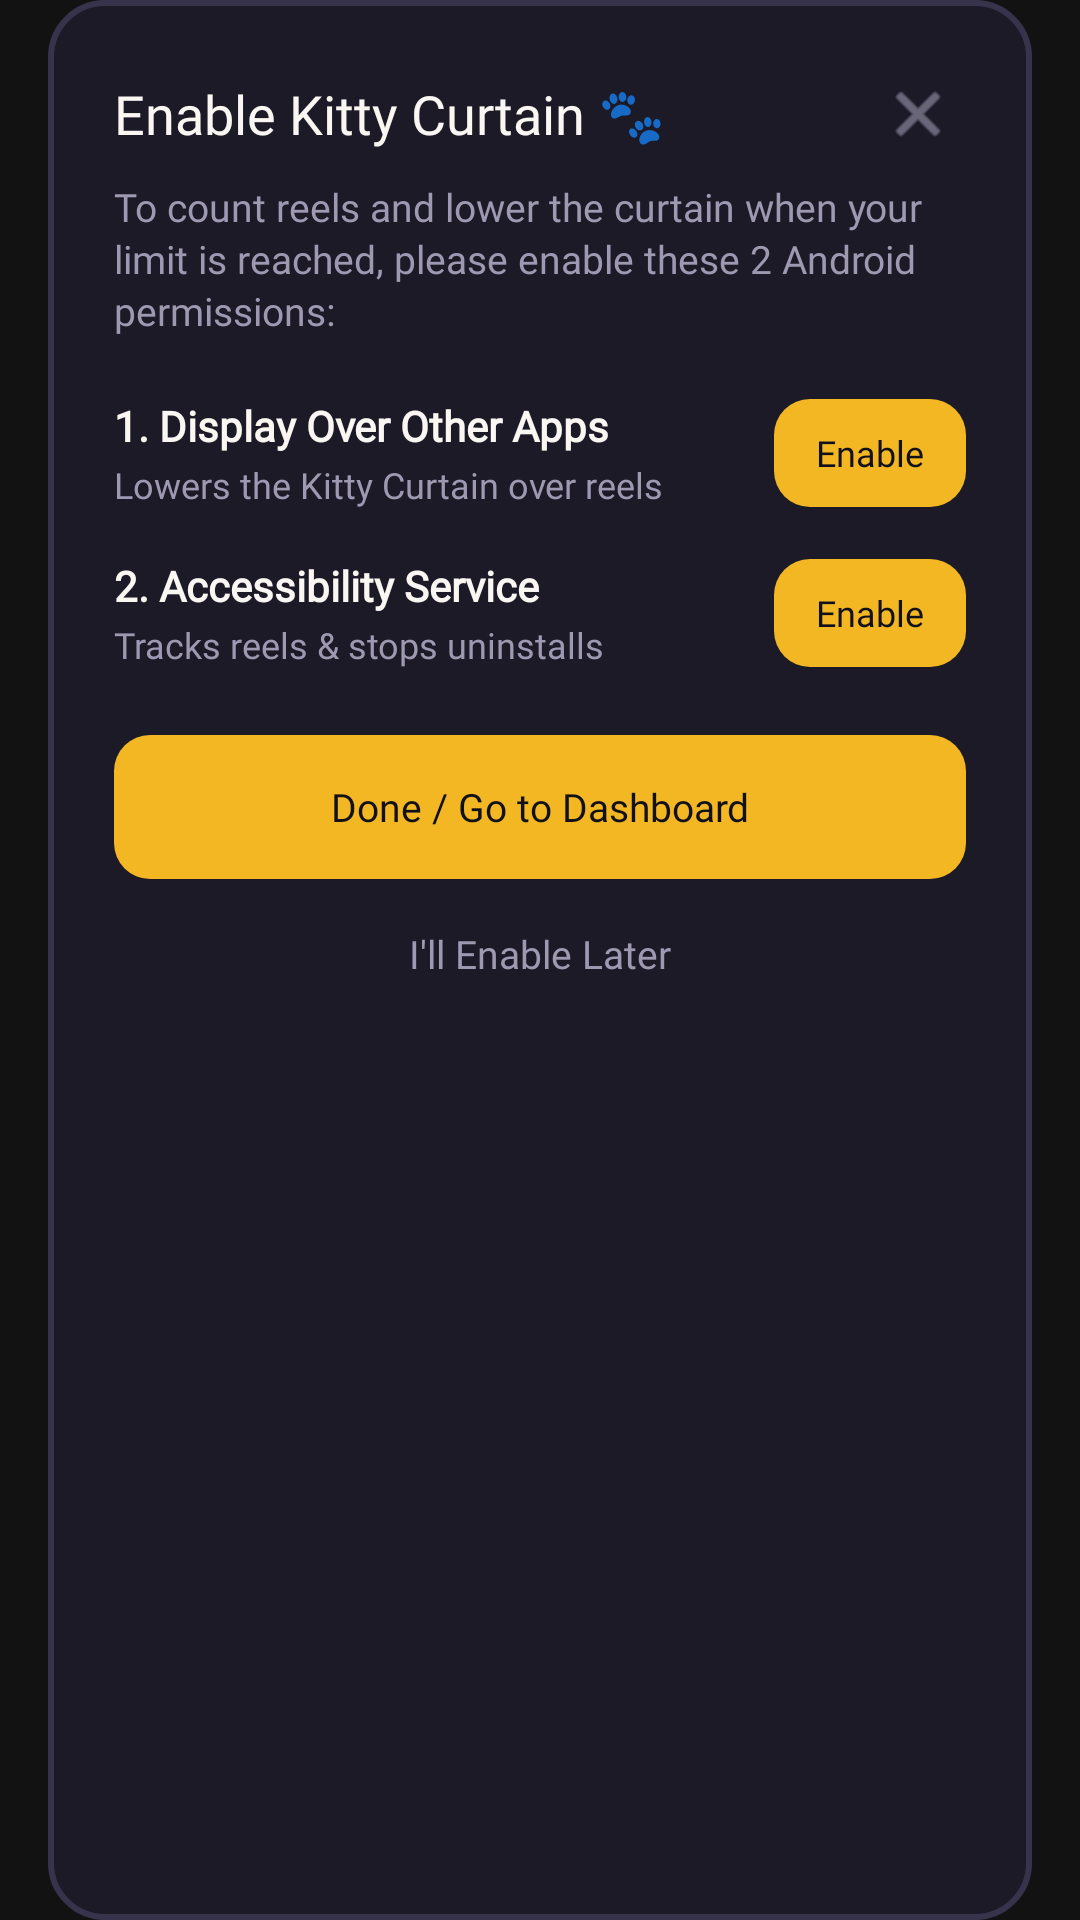

Where to tap for icons on this 1080 x 1920 app screen, as point (x, y):
Close: point (918, 114)
